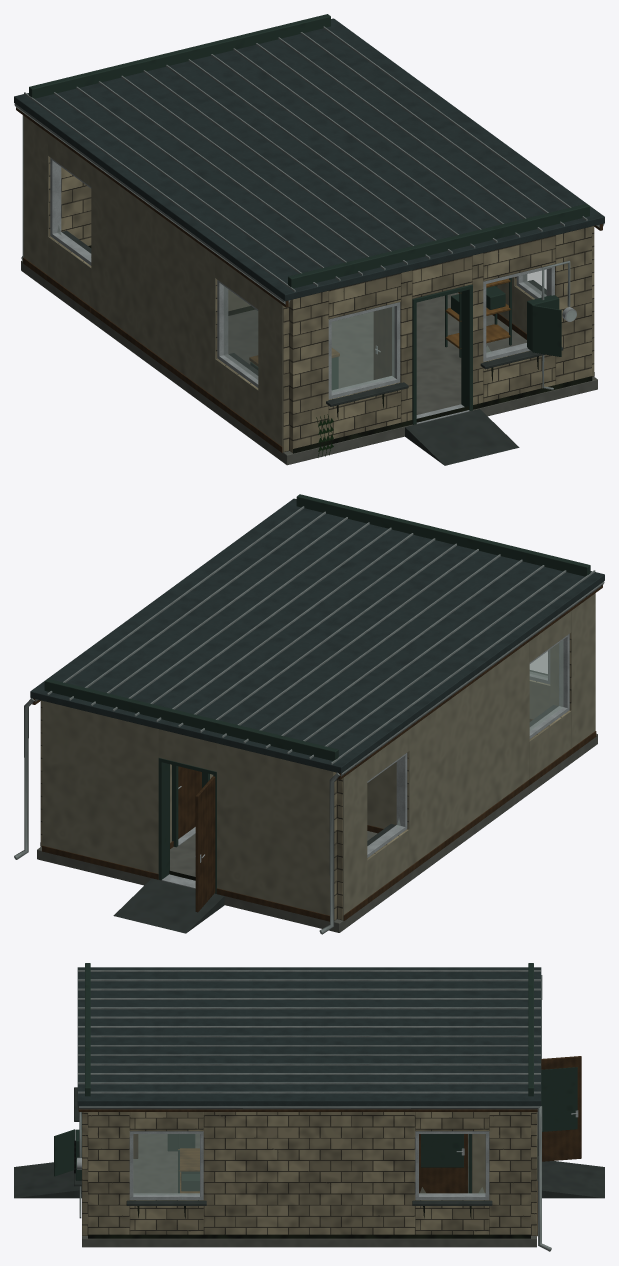
The model's file is GR05_01_UtilityHouse.glb.
3 renders of one model, top to bottom at view 1: azimuth 30°, elevation 25°; view 2: azimuth 150°, elevation 25°; view 3: azimuth 270°, elevation 25°, orthographic. The views are drawn at different scales.
Visible parts, largest first — view 1: Static, Door_04, Door_00; view 2: Static, Door_01, Door_05; view 3: Static, Door_01, Door_05, Door_04.
Boxes of the visible parts, x1,y1,x2,y2 form: Static: [14, 14, 604, 465]; Door_04: [532, 305, 561, 356]; Door_00: [373, 307, 391, 379]; Static: [14, 494, 604, 934]; Door_01: [195, 776, 215, 912]; Door_05: [178, 766, 201, 838]; Static: [14, 963, 604, 1251]; Door_01: [541, 1056, 581, 1161]; Door_05: [419, 1134, 467, 1193]; Door_04: [54, 1129, 75, 1176].
Size of the model in its own units: 6.66 by 3.53 by 12.
Materials: 16 (14 with a texture image).
